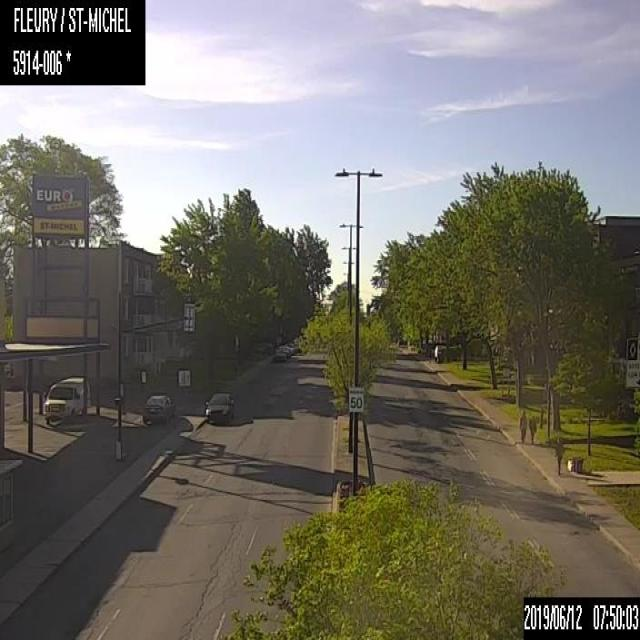pedestrian: (554, 436, 564, 475), (518, 409, 526, 443), (529, 413, 536, 447)
vehicle: (43, 376, 90, 423), (142, 394, 173, 424), (205, 392, 232, 421), (278, 344, 290, 356), (274, 348, 286, 360)
